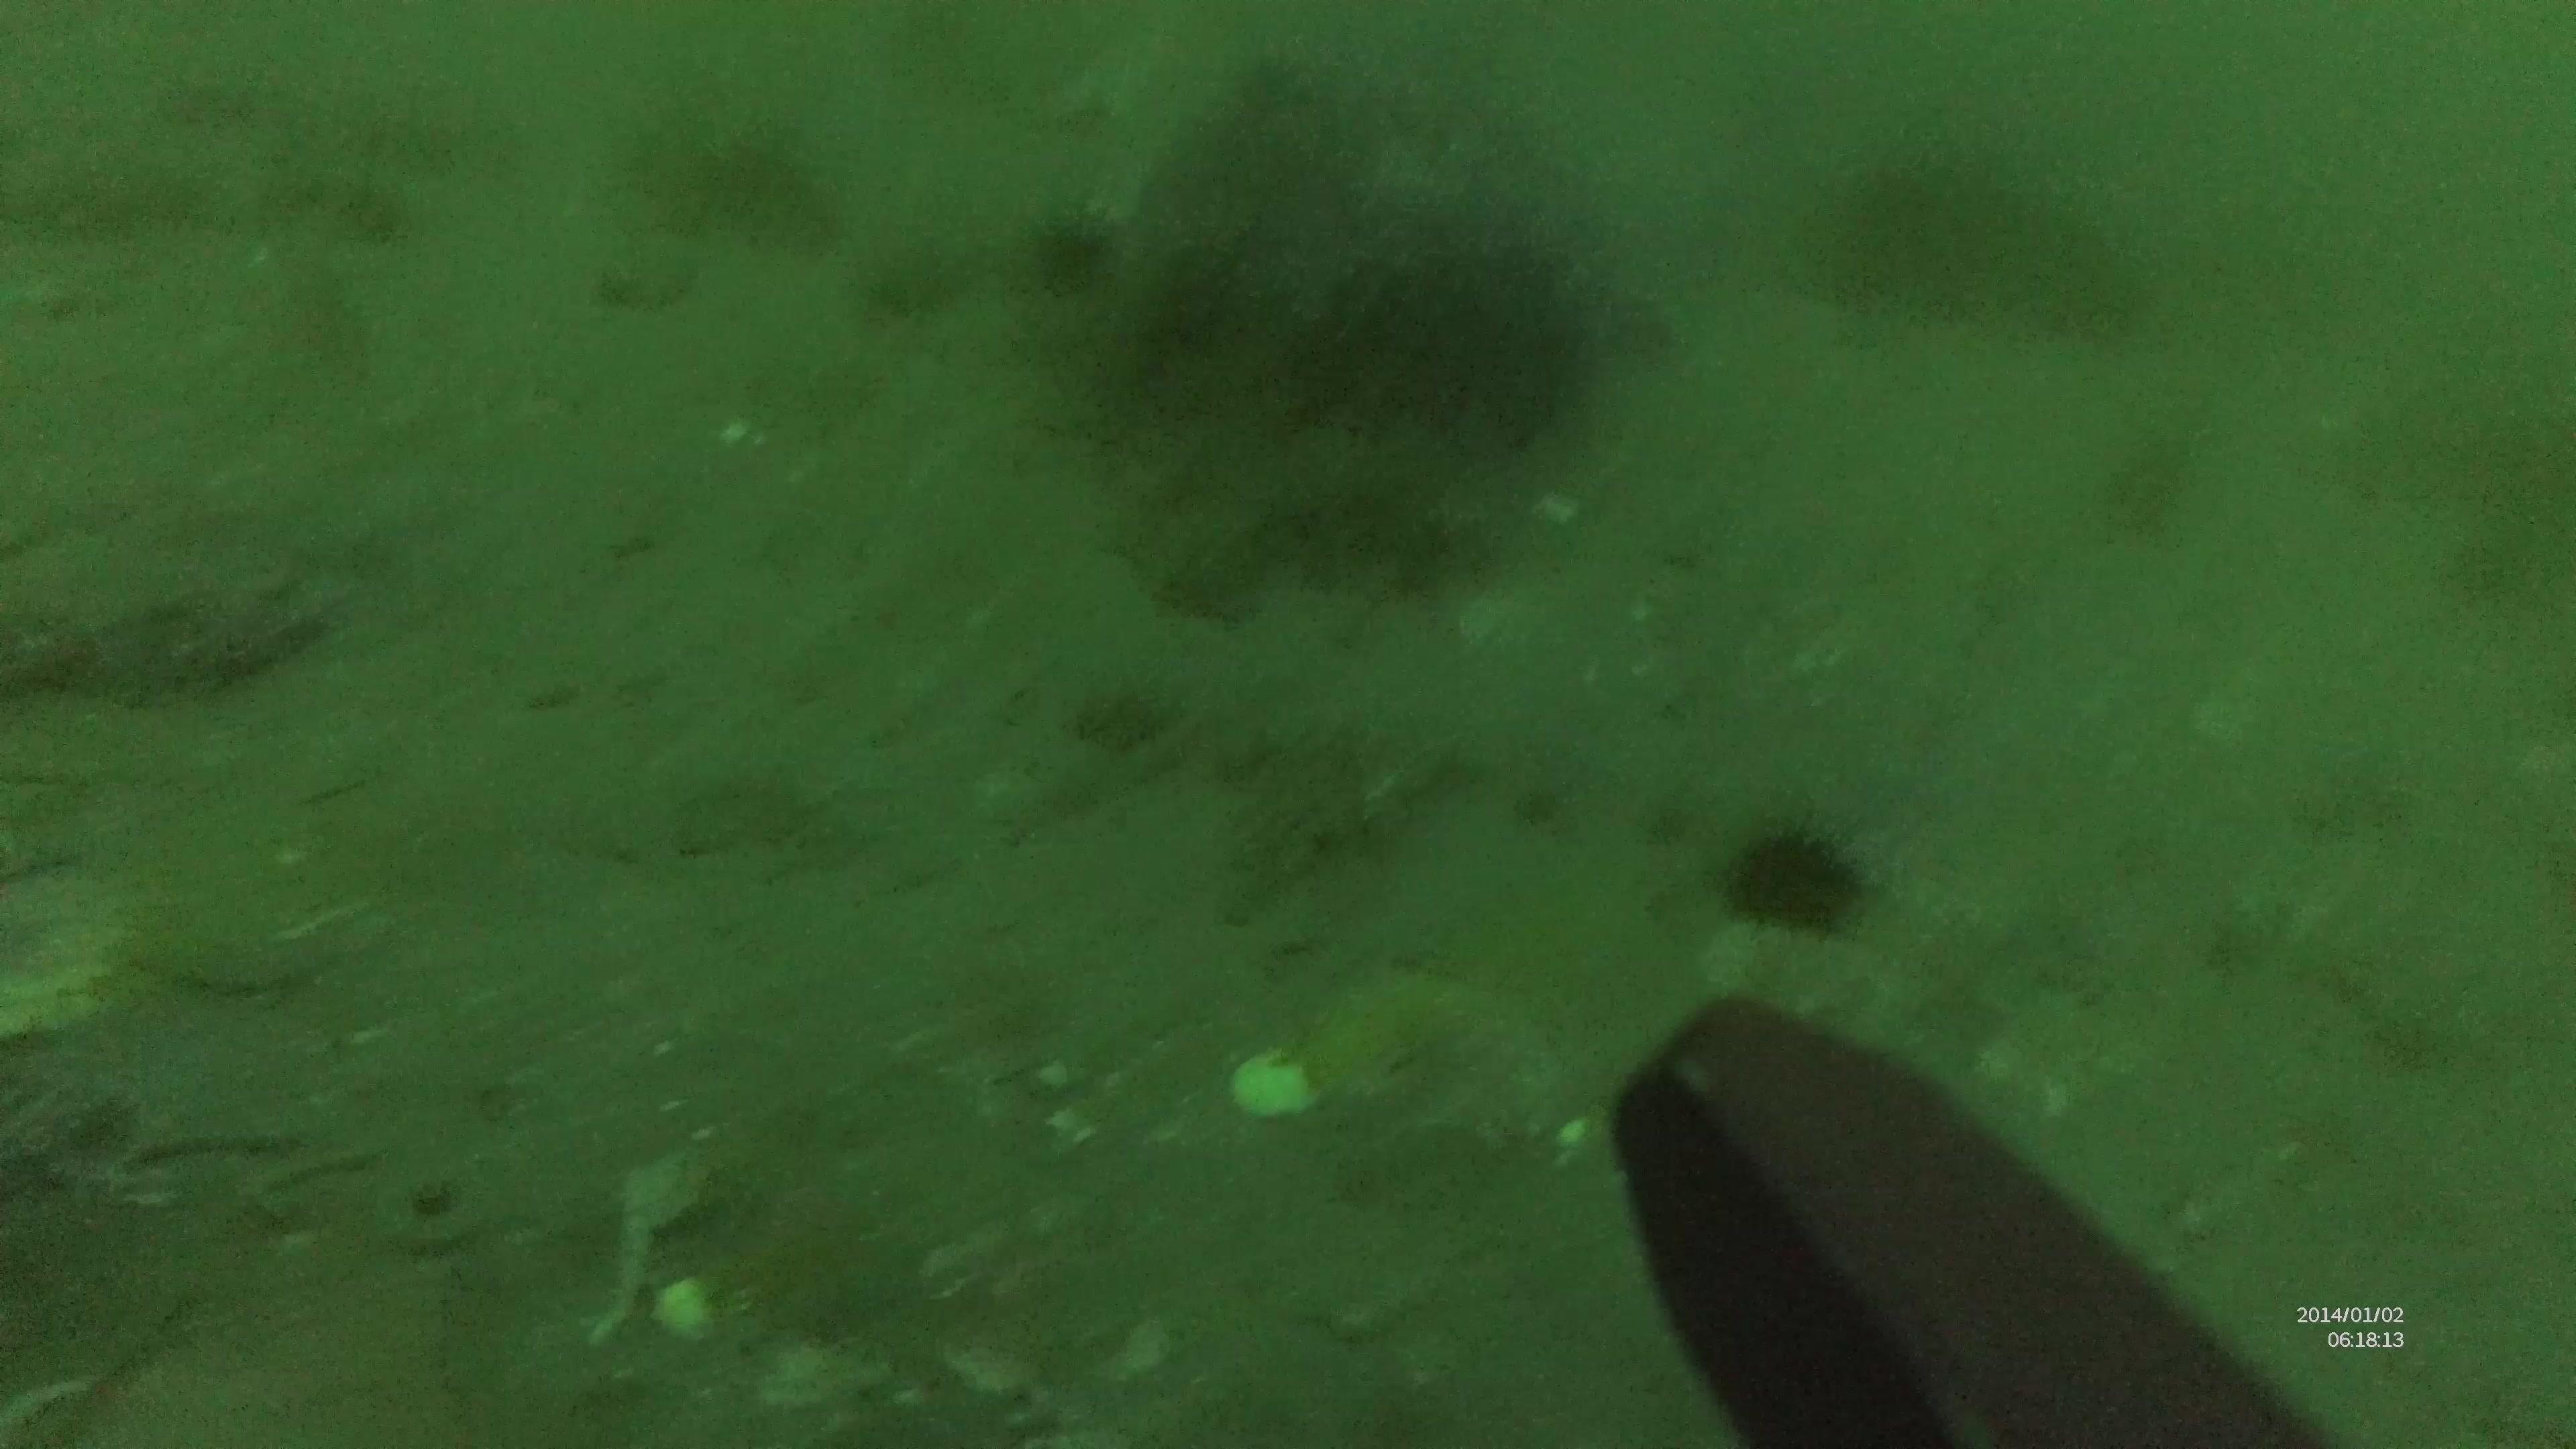echinus: (1718, 823, 1877, 945), (1031, 209, 1131, 297)
